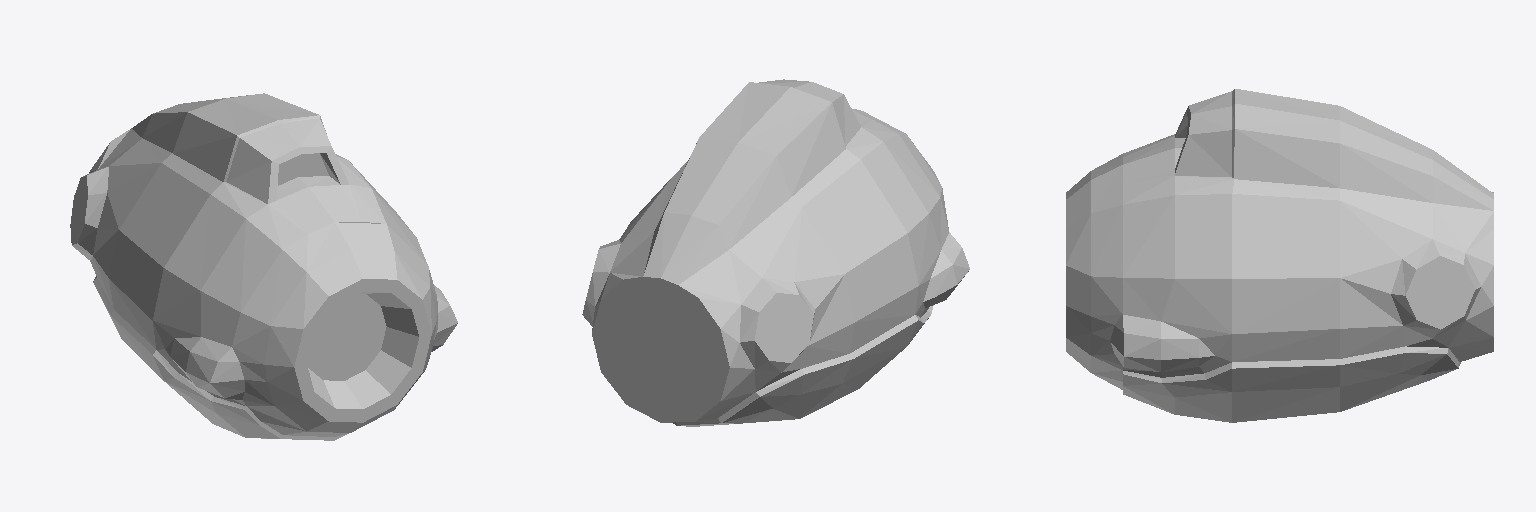
The model's file is Second Armor Buster G.obj.
3 views of the same model, side by side, from view 1: azimuth 30°, elevation 25°; view 2: azimuth 150°, elevation 25°; view 3: azimuth 270°, elevation 25° (orthographic).
Parts seen in each view (by area): view 1: Buster_010_G; view 2: Buster_010_G; view 3: Buster_010_G.
Boxes of the visible parts, box(x1,y1,x2,y2) form: Buster_010_G: box(70, 93, 457, 440); Buster_010_G: box(582, 79, 969, 426); Buster_010_G: box(1066, 89, 1493, 422).
Bounding box in the file's own units: 0.2496 × 0.2803 × 0.3568.